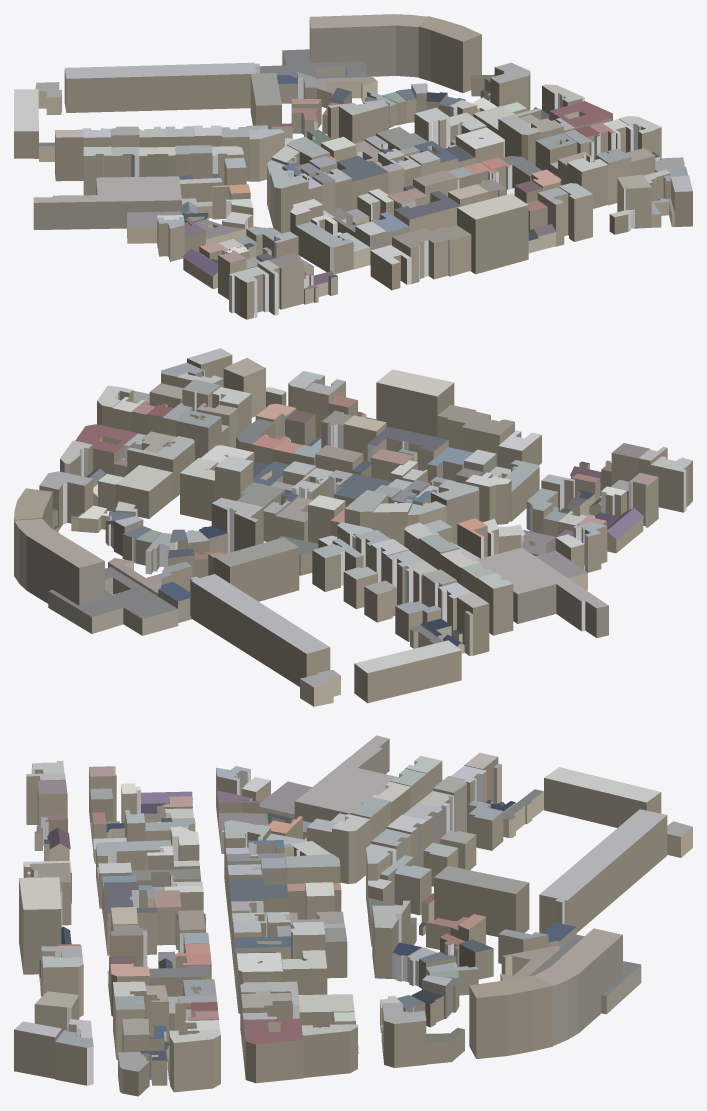
The picture shows the model from 3 angles, top to bottom: view 1: azimuth 30°, elevation 25°; view 2: azimuth 150°, elevation 25°; view 3: azimuth 270°, elevation 25°; orthographic projection. The views are drawn at different scales.
Visible parts, largest first — view 1: tuile; view 2: tuile; view 3: tuile.
Boxes of the visible parts, x1,y1,x2,y2 form: tuile: [14, 14, 692, 319]; tuile: [14, 348, 692, 706]; tuile: [14, 735, 692, 1096].
Size of the model in its own units: 297 by 30.43 by 267.
